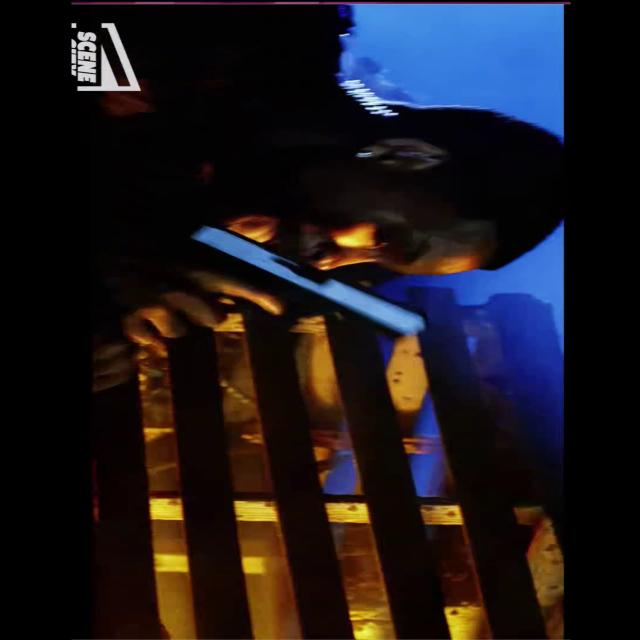weapons: (147, 206, 447, 356)
